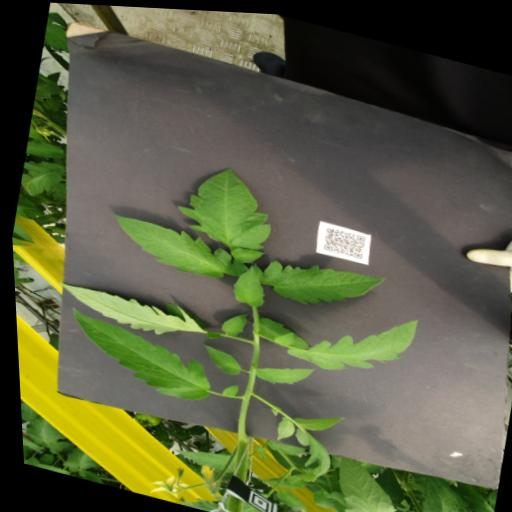Healthy: (52, 303, 215, 404), (263, 279, 416, 386), (46, 268, 210, 345), (98, 207, 251, 285), (166, 151, 279, 255), (255, 241, 385, 318), (250, 393, 344, 485), (320, 451, 398, 512), (384, 463, 465, 512), (248, 349, 311, 390), (17, 410, 71, 456), (14, 153, 64, 202), (163, 436, 231, 472), (224, 258, 268, 306), (194, 339, 239, 373), (250, 463, 302, 490), (22, 137, 65, 162), (213, 303, 245, 336), (225, 240, 263, 264), (267, 484, 303, 508)
